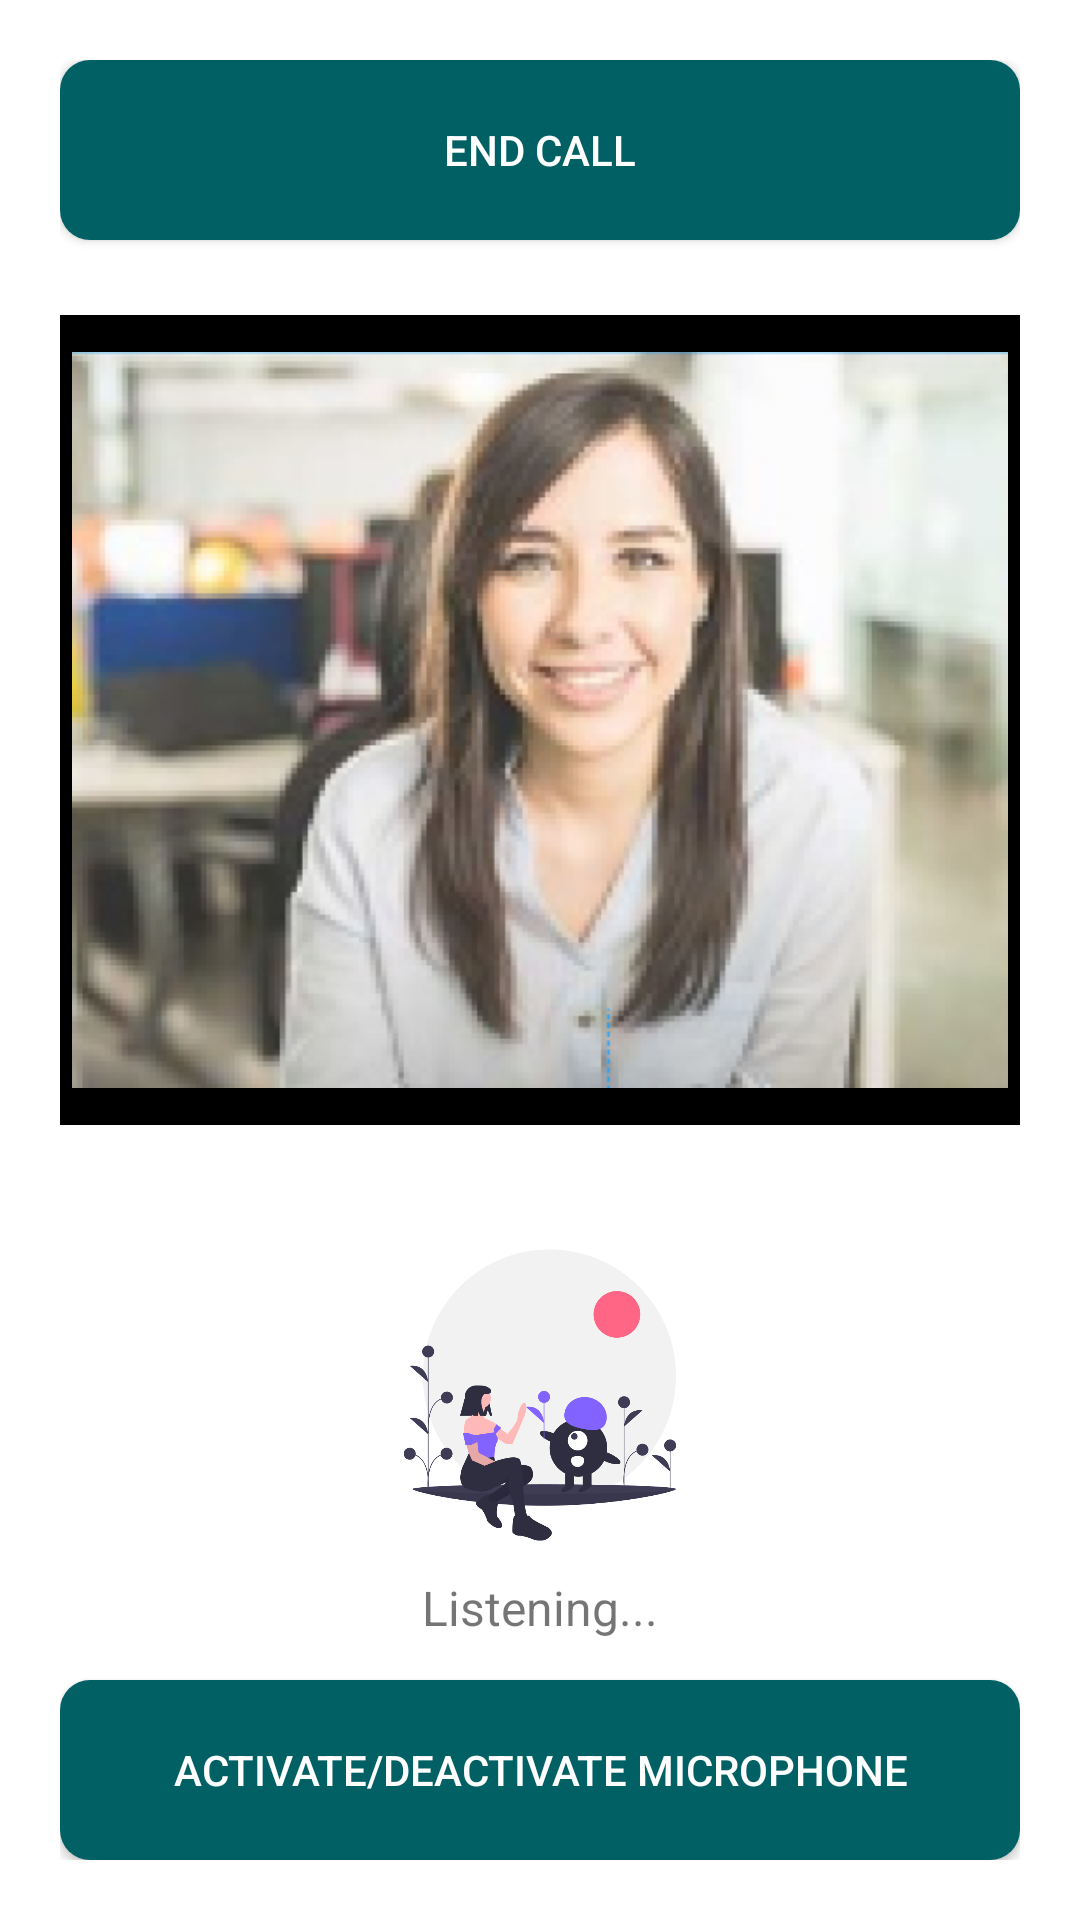

Where to tap for icons on this 1080 x 1920 app screen, as point (x, y):
visual aid: point (540, 1416)
